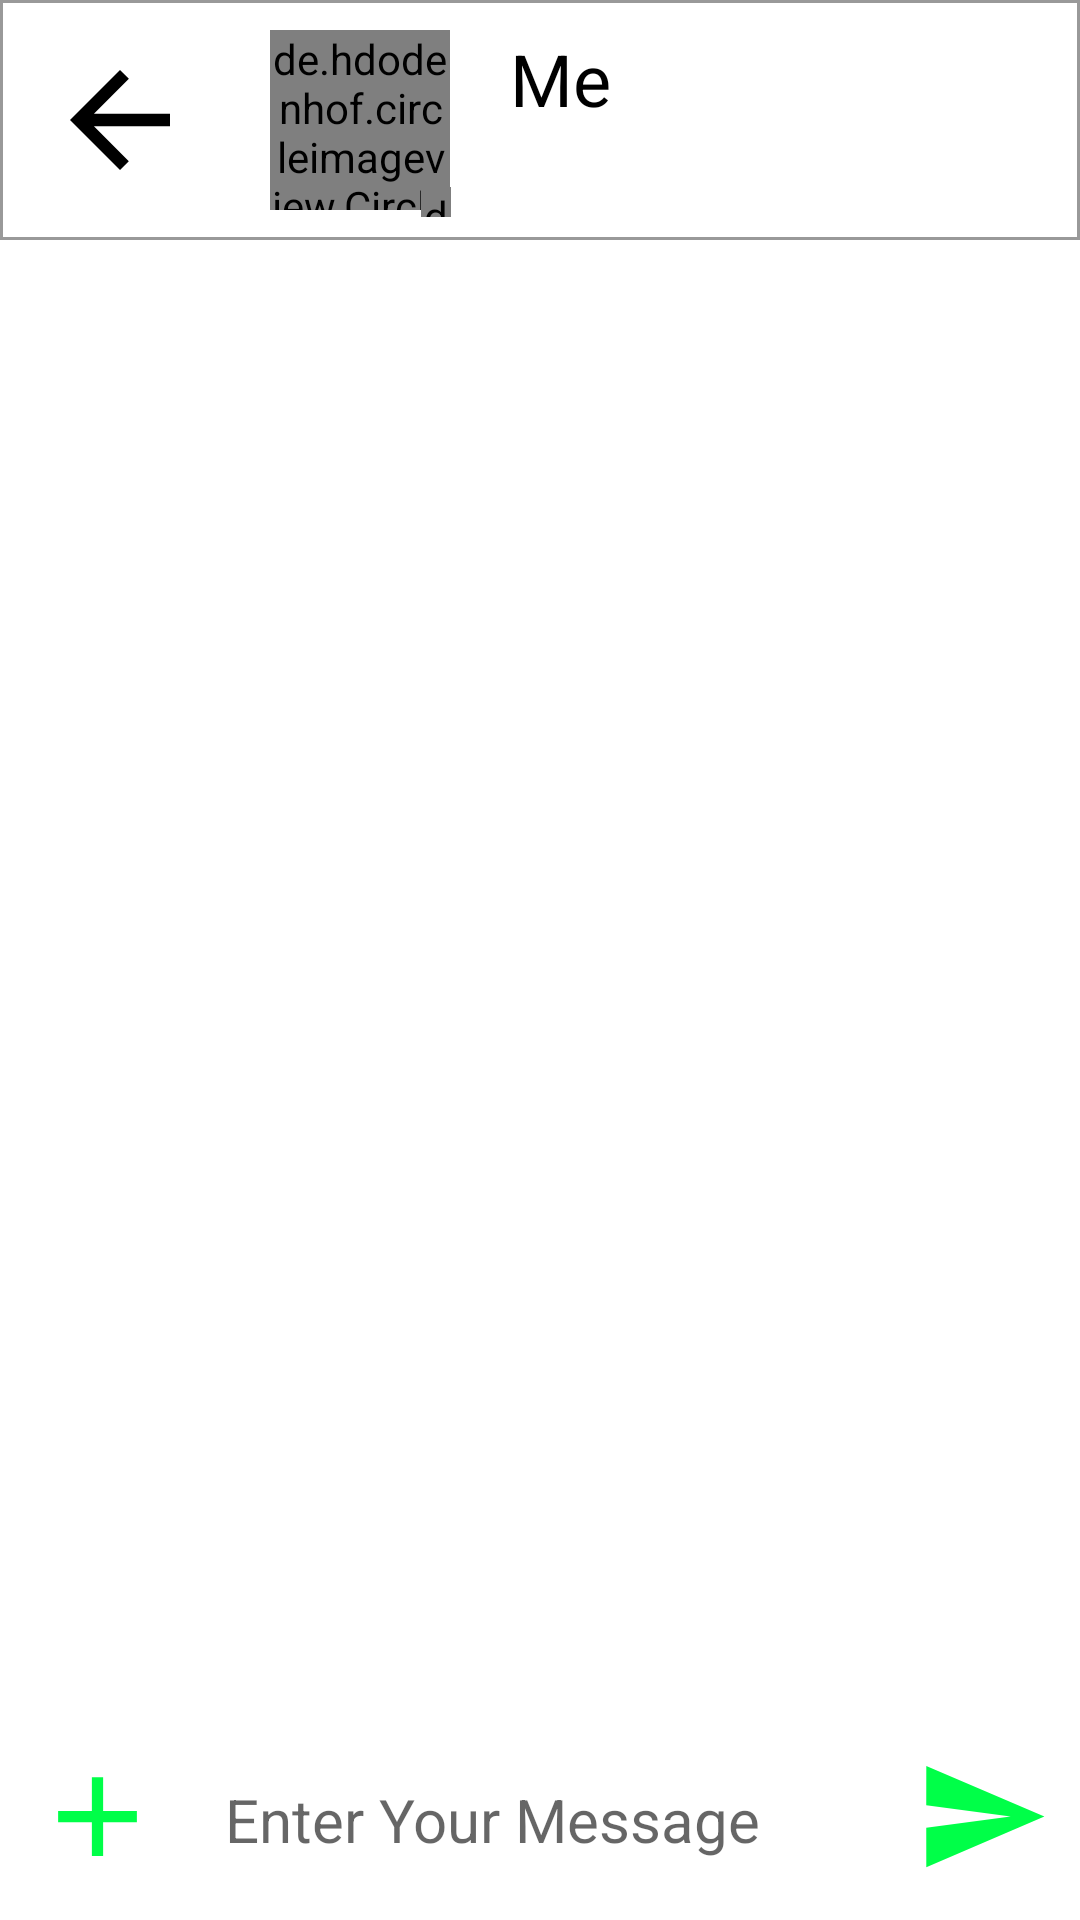

Icon click points for this 1080px x 1920px phone screenshot, format (x,y):
add: (97,1816)
return arrow: (120,120)
send: (985,1816)
